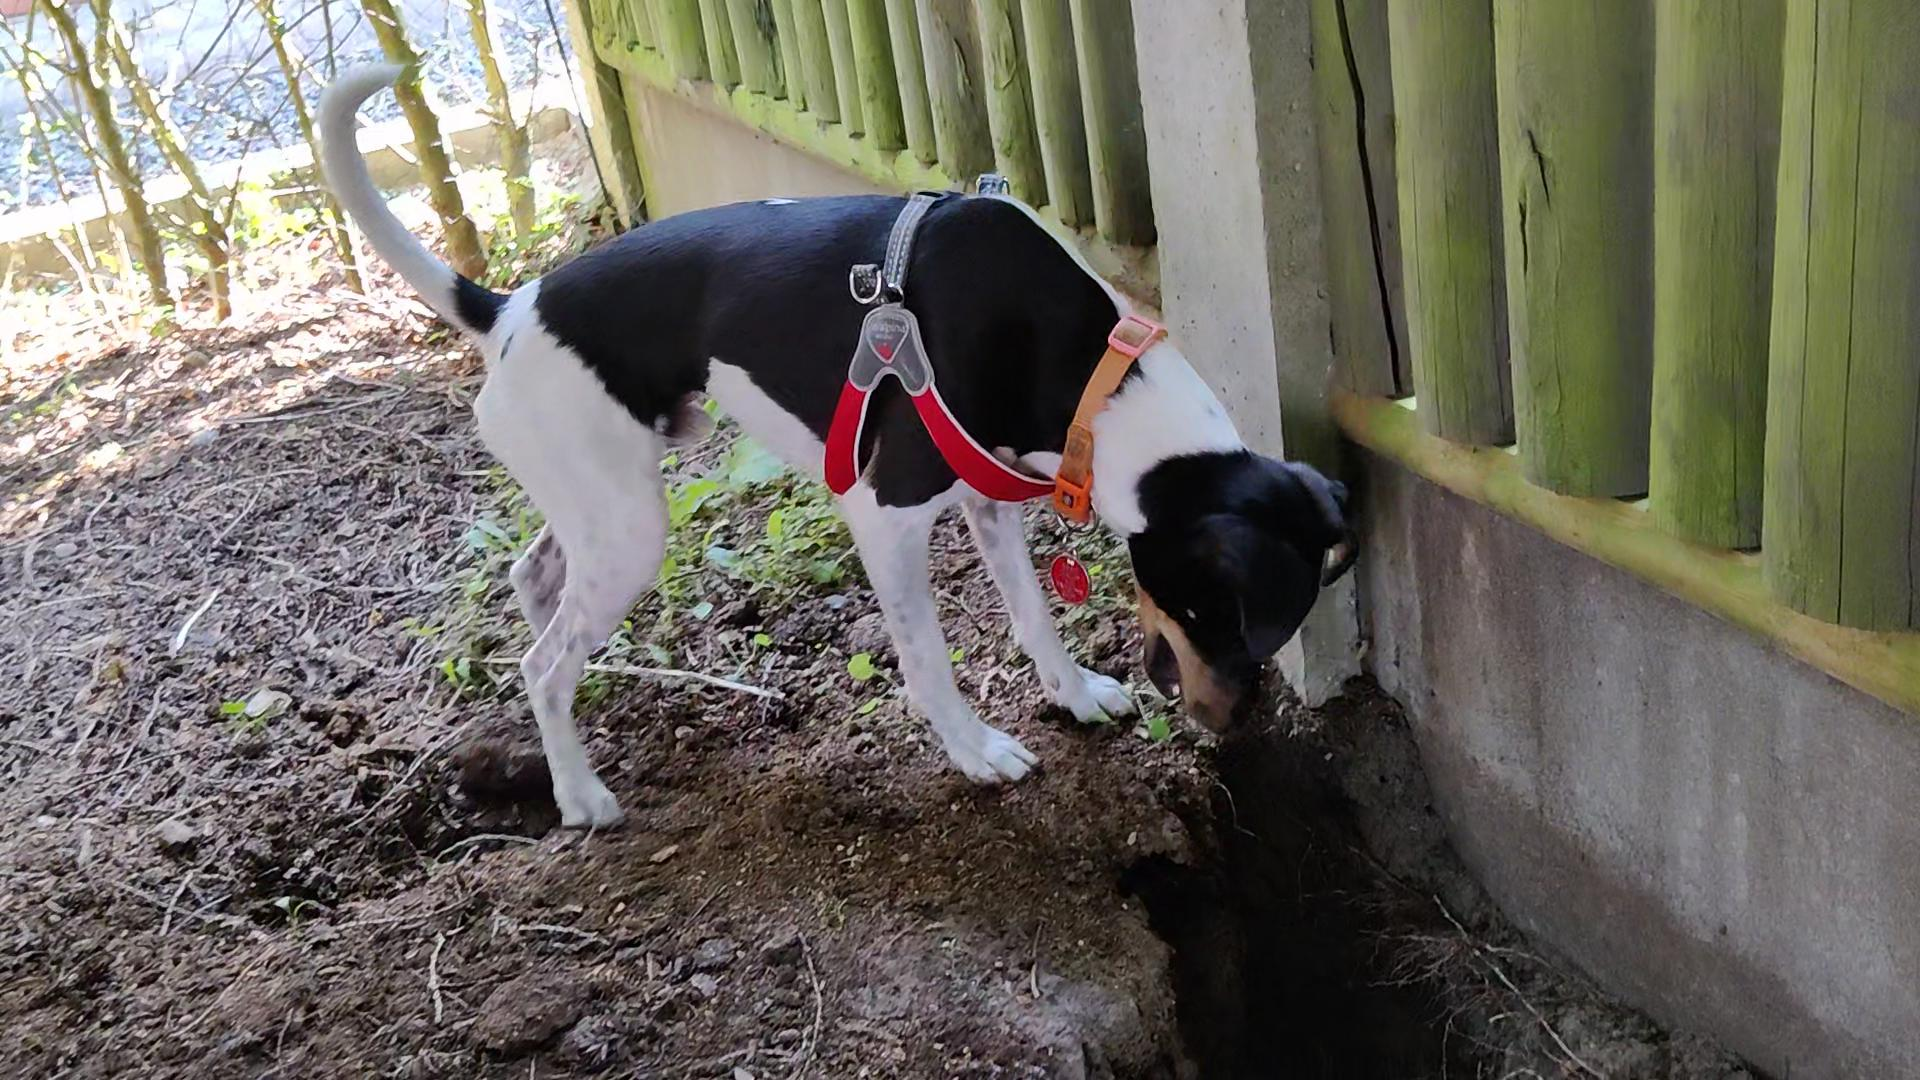Dog: (309, 47, 1377, 845)
